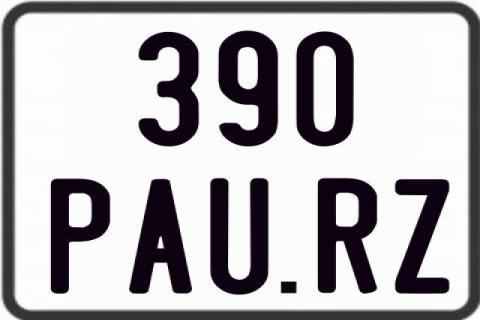0: (218, 31, 284, 151), (294, 31, 358, 150), (136, 31, 200, 149)
A: (126, 180, 191, 296)
P: (50, 176, 114, 292)
R: (317, 177, 378, 293)
U: (208, 179, 272, 297)
Z: (392, 177, 447, 293)
